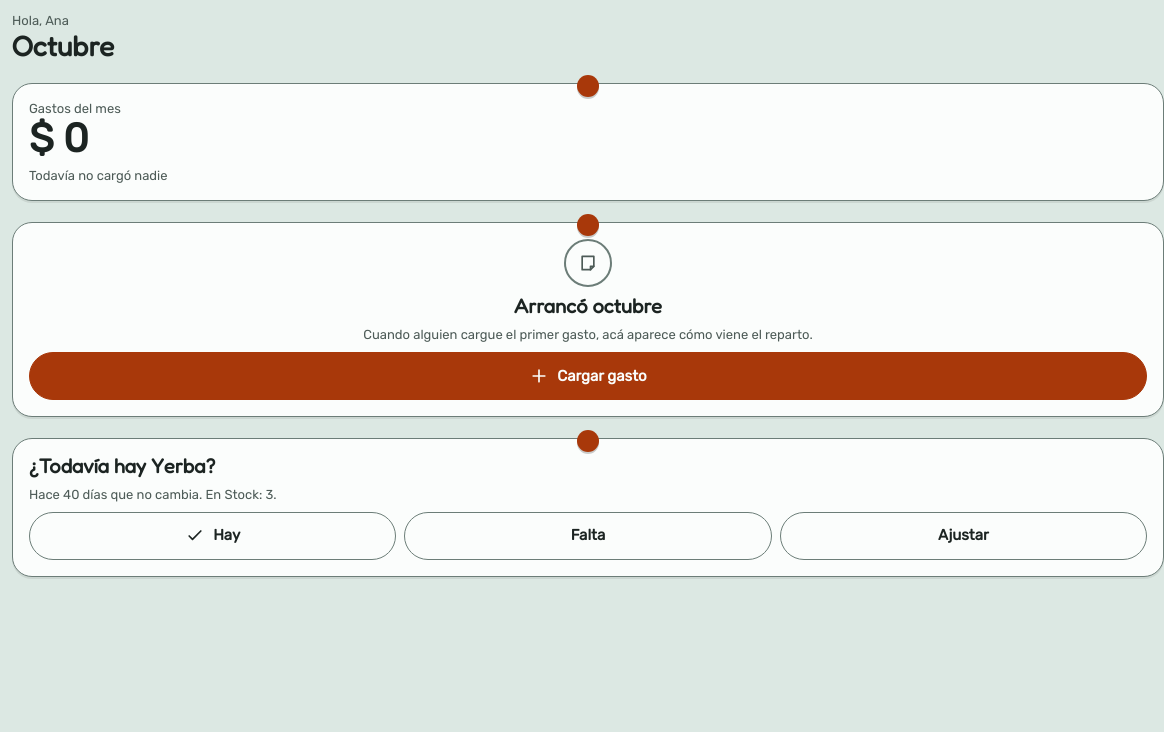
it: Falta deja el stock en 0
The width and height of the screenshot is (1164, 732).
Check: the heading "¿Todavía hay Yerba?" is shown, box [29, 454, 215, 478]
Click the button "Falta" at (588, 536), box [404, 512, 772, 560]
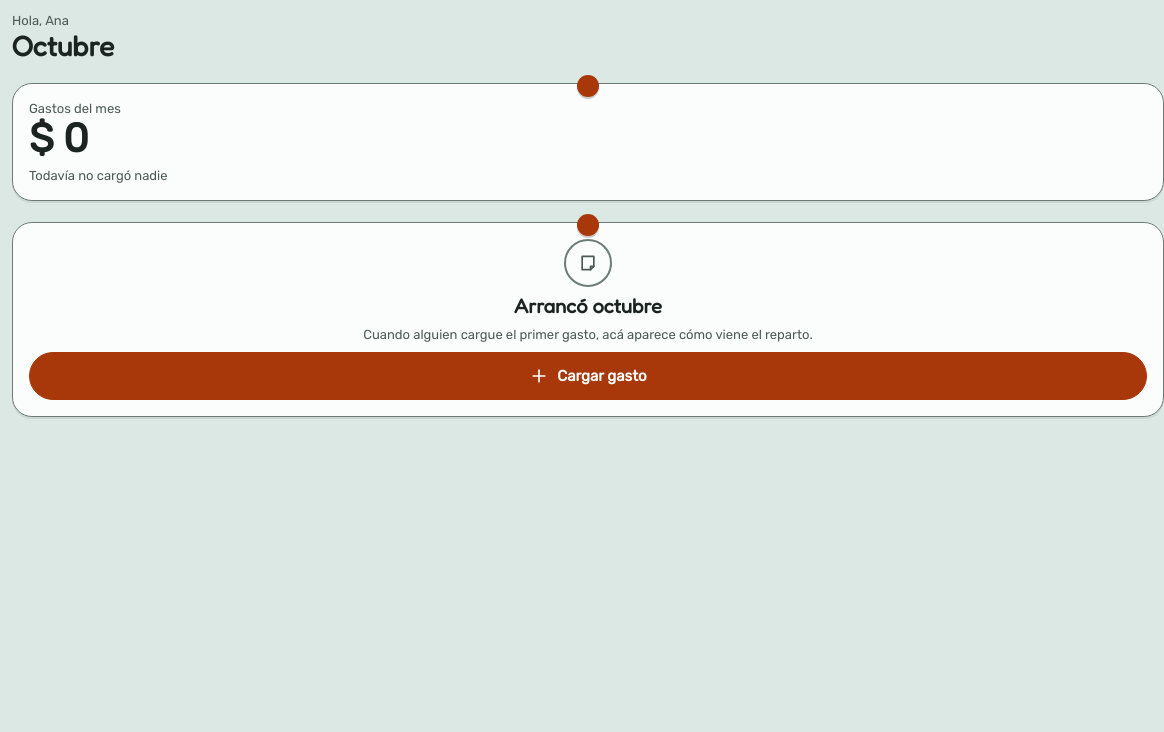
Check: the element with test id "todavia-hay" is gone
